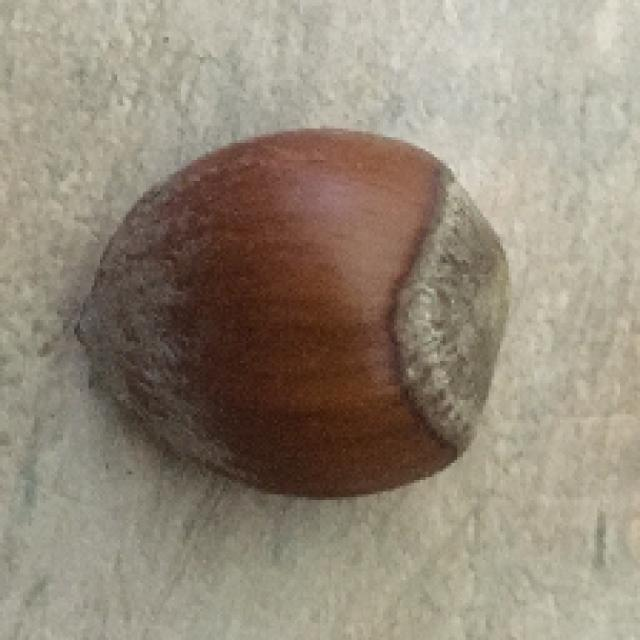qualityHazelnut: (64, 121, 521, 501)
